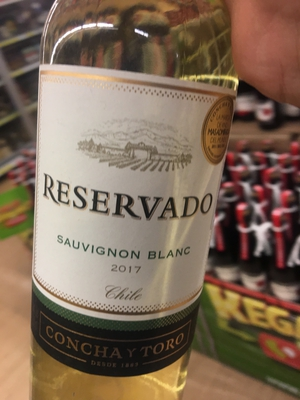reservado sauvignon blanc: (37, 10, 245, 400)
